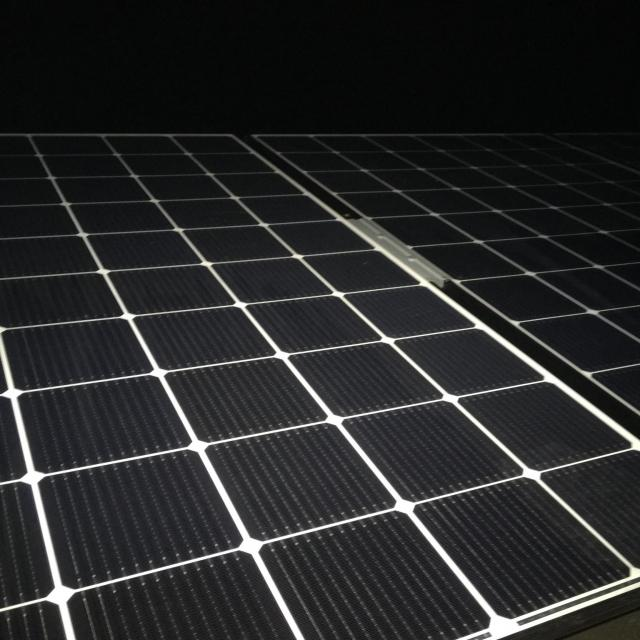no faulty: (10, 139, 640, 640)
